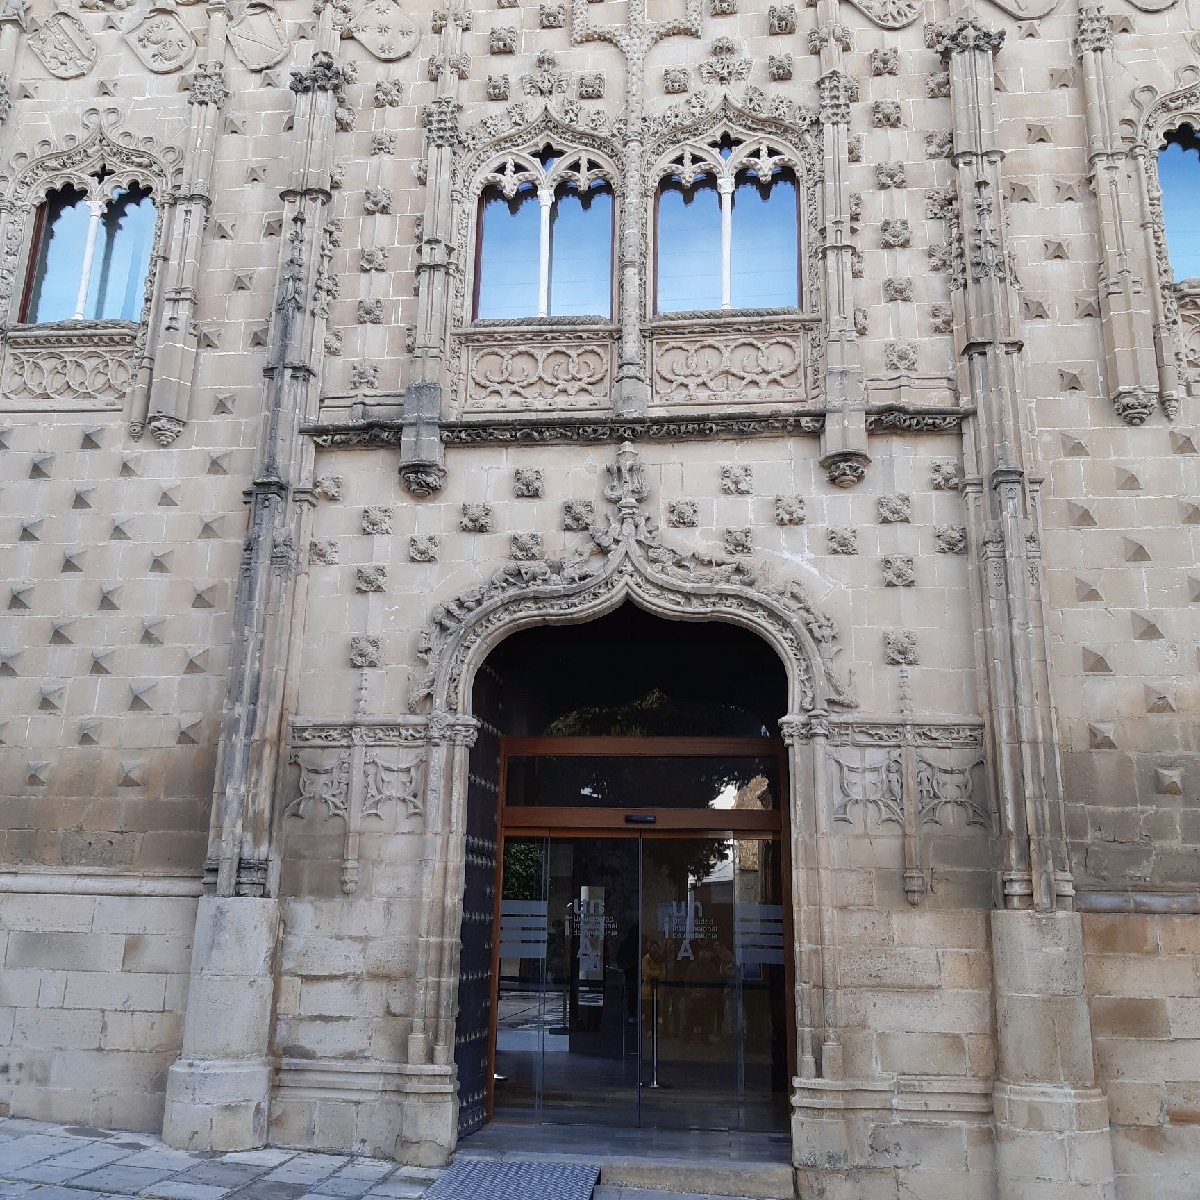arco-conopial: (449, 538, 812, 681), (462, 101, 633, 185), (643, 104, 814, 174), (16, 123, 176, 197)
